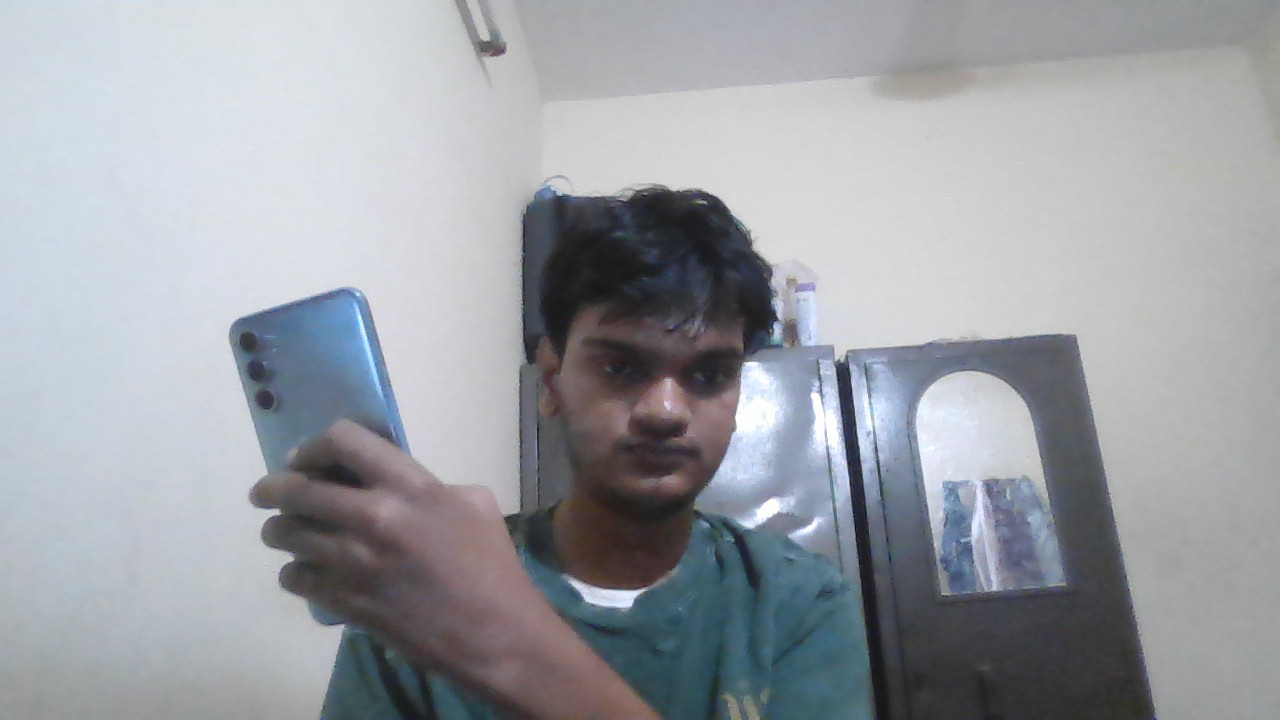phone: (222, 276, 379, 421)
